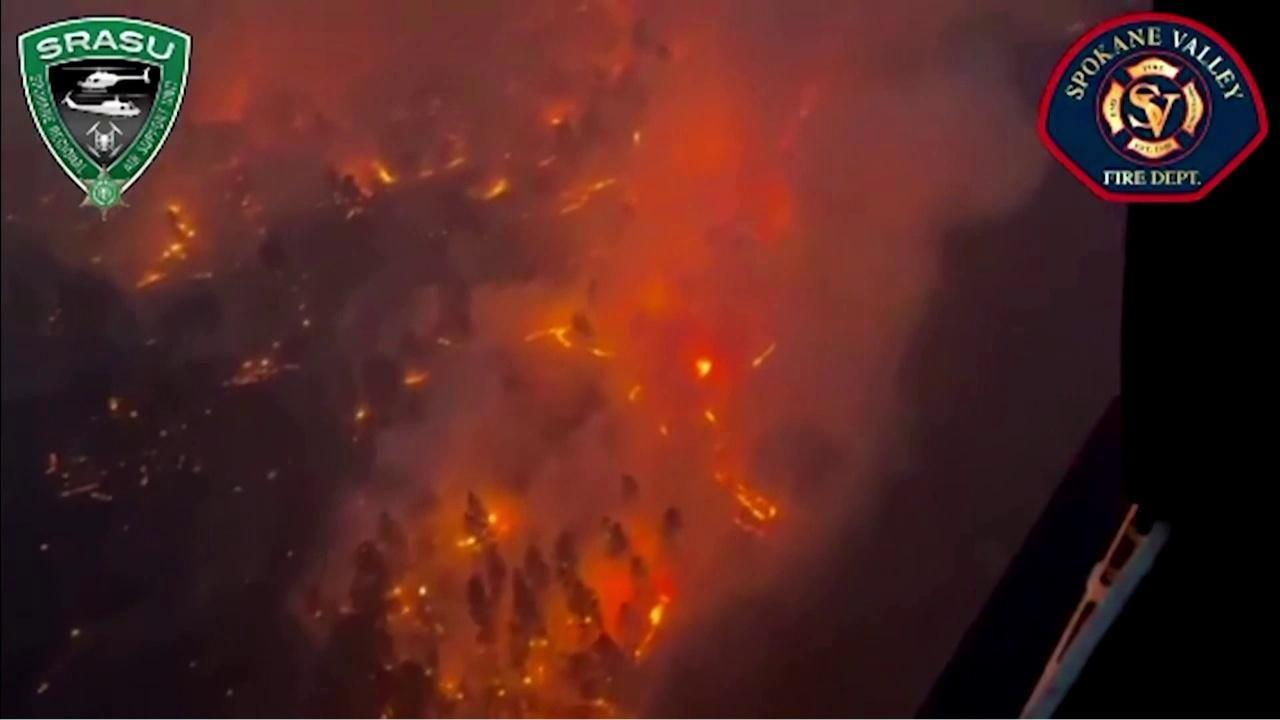fire: (131, 203, 196, 289), (630, 593, 674, 664), (560, 176, 619, 215), (218, 355, 278, 391), (733, 479, 778, 523), (521, 321, 574, 348), (58, 481, 113, 502), (368, 159, 400, 186), (752, 341, 777, 369), (481, 179, 508, 202), (587, 343, 616, 361), (43, 451, 59, 479), (404, 370, 431, 386), (626, 383, 645, 404), (693, 357, 712, 378), (453, 536, 478, 551), (445, 155, 468, 169), (104, 395, 123, 411), (702, 409, 719, 426), (140, 463, 150, 488), (487, 510, 501, 527), (520, 676, 535, 689), (658, 422, 670, 438), (387, 585, 403, 596), (417, 584, 429, 597), (496, 686, 507, 700), (550, 117, 564, 127), (633, 130, 642, 145), (401, 604, 412, 615), (128, 410, 140, 419), (355, 410, 366, 419)
smoke: (2, 0, 1128, 720)
